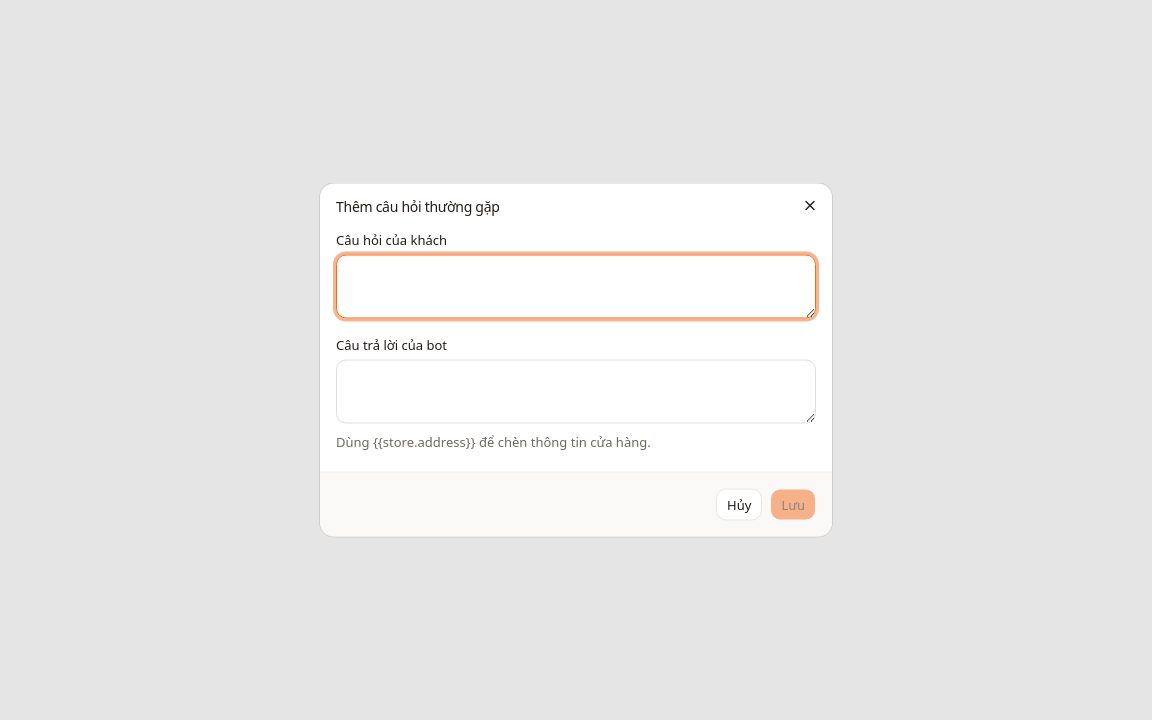
FaqDialog profile hint › points to the shipping field when a retail question mentions shipping
Type "phí ship ra Hà Nội" into the text box labelled "Câu hỏi của khách".
click(576, 286); type("phí ship ra Hà Nội")  # box [336,254,816,318]
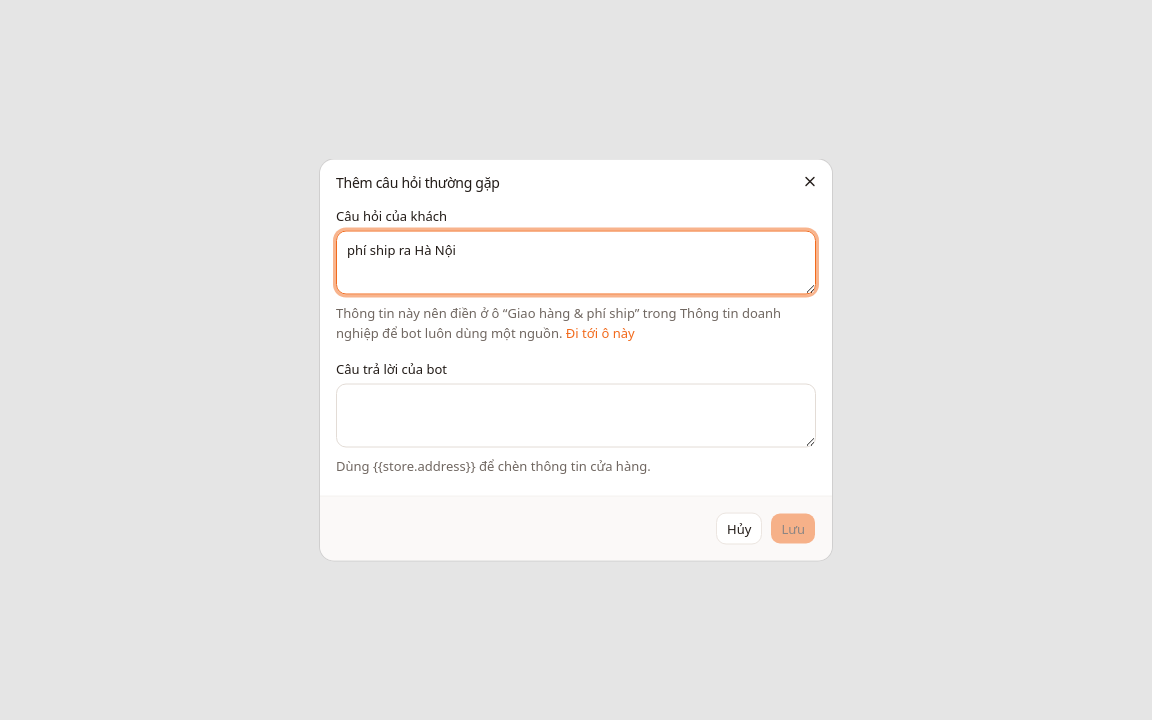
Expected: the button "Lưu" is disabled, [770,512,816,544]
Result: the text "nên điền ở ô “Giao hàng & phí ship”" is shown at [336,304,781,342]
